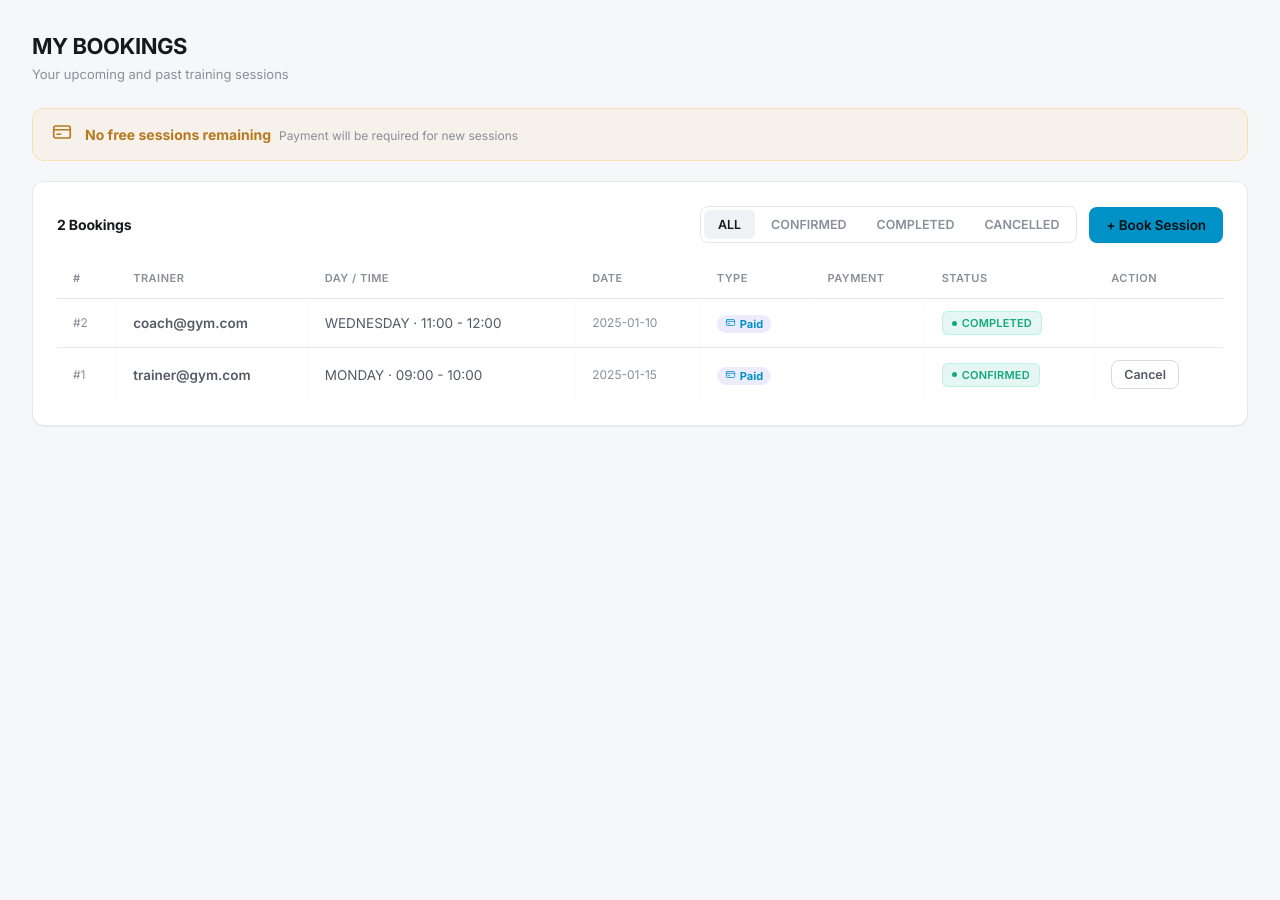
it: MemberBookings — book session modal › opens modal when + Book Session is clicked
Click the button "+ Book Session": (1156, 225) [1089, 206, 1223, 243]
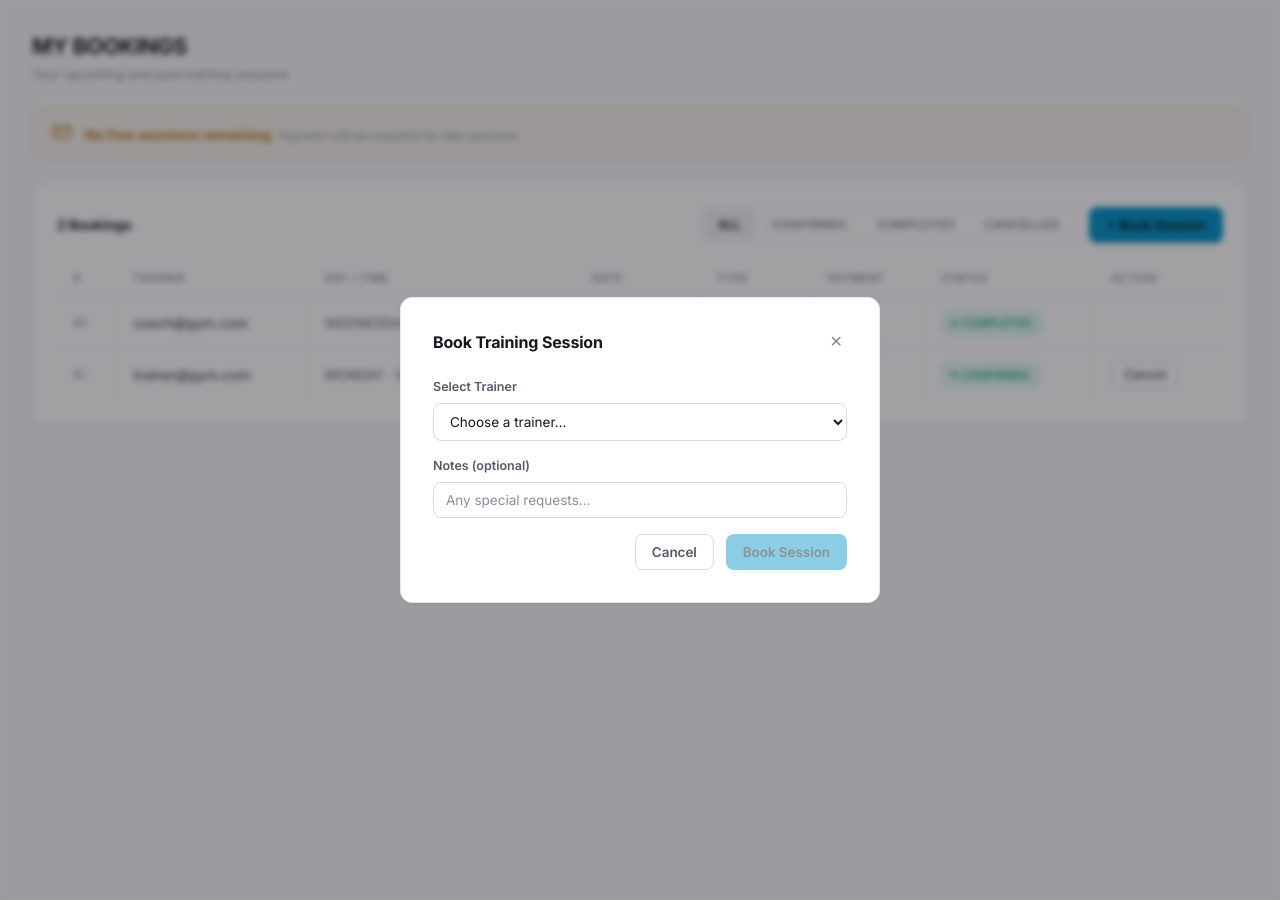
Expected: the text "Book Training Session" is shown, [433, 330, 603, 354]
